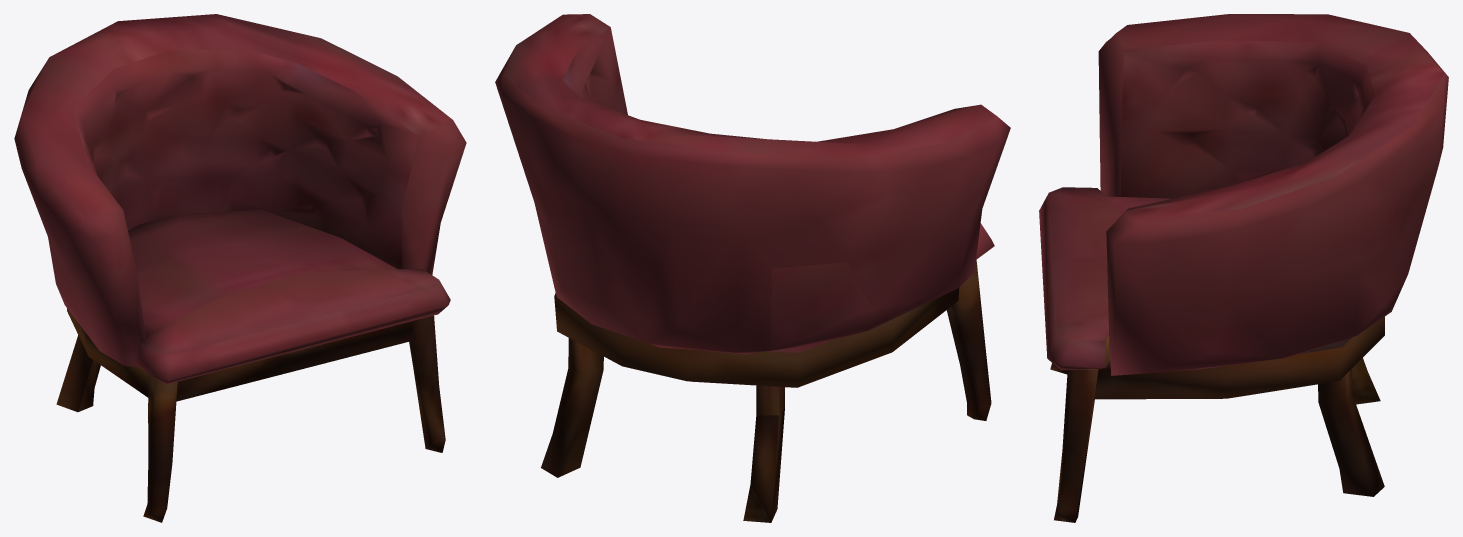
Rendered from ChairWatlas.fbx.
3 views of the same model, side by side, from view 1: azimuth 30°, elevation 25°; view 2: azimuth 150°, elevation 25°; view 3: azimuth 270°, elevation 25° (orthographic). The views are drawn at different scales.
Parts seen in each view (by area): view 1: ChairShape; view 2: ChairShape; view 3: ChairShape.
Boxes of the visible parts, <box> form: ChairShape: <box>14,14,466,522</box>; ChairShape: <box>495,14,1010,522</box>; ChairShape: <box>1039,14,1448,522</box>.
Bounding box in the file's own units: 110 × 90 × 90.74.
Materials: 1 (1 with a texture image).
